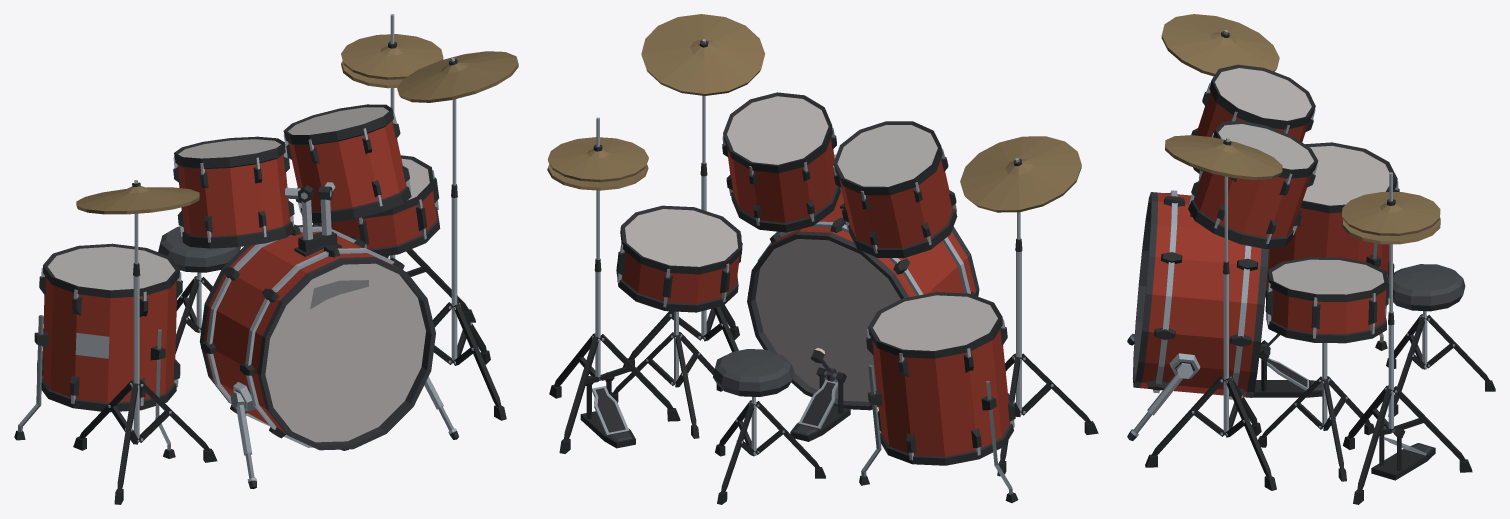
The model's file is drums.fbx.
The picture shows the model from 3 angles, left to right: view 1: azimuth 30°, elevation 25°; view 2: azimuth 150°, elevation 25°; view 3: azimuth 270°, elevation 25°; orthographic projection. The views are drawn at different scales.
Parts seen in each view (by area): view 1: drums; view 2: drums; view 3: drums.
Part boxes in pixels (x1,y1,x2,y2): drums: [14, 14, 518, 504]; drums: [547, 14, 1098, 504]; drums: [1127, 14, 1495, 504].
Size of the model in its own units: 210 by 143 by 147.
1 material, 1 textured.
